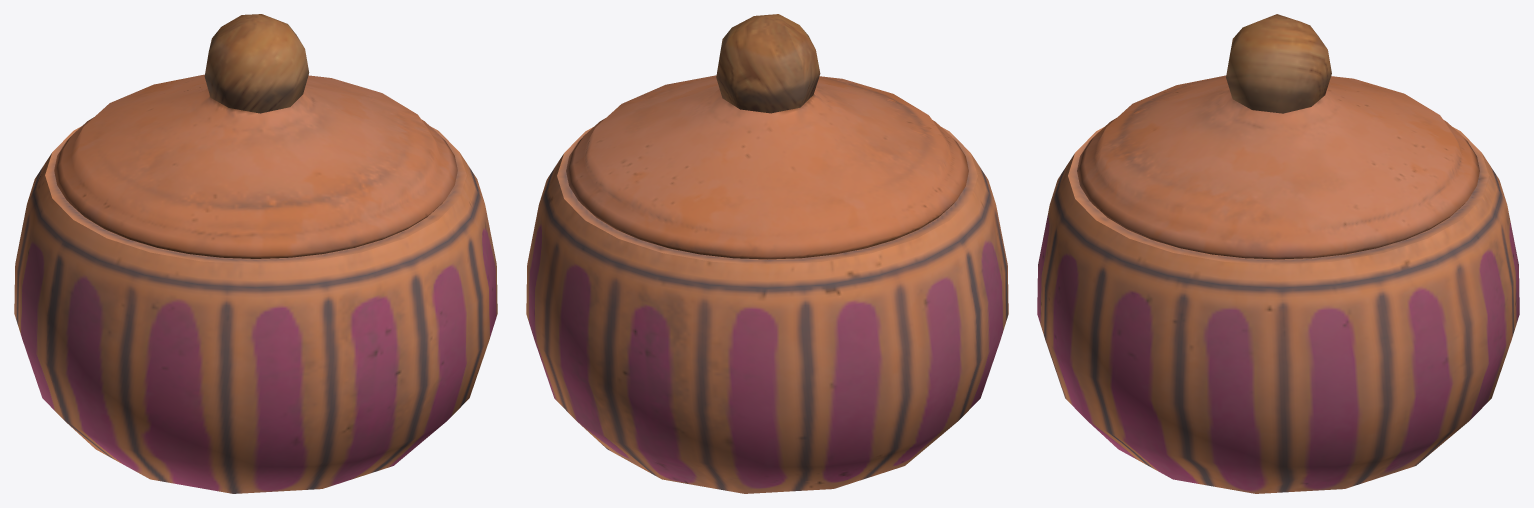
Rendered from SM_Potion_Props_Casket_01.fbx.
3 views of the same model, side by side, from view 1: azimuth 30°, elevation 25°; view 2: azimuth 150°, elevation 25°; view 3: azimuth 270°, elevation 25° (orthographic).
Visible parts, largest first — view 1: SM_Potion_Props_Casket_01_LOD0; view 2: SM_Potion_Props_Casket_01_LOD0; view 3: SM_Potion_Props_Casket_01_LOD0.
Boxes of the visible parts, x1=… form: SM_Potion_Props_Casket_01_LOD0: x1=14, y1=14, x2=497, y2=493; SM_Potion_Props_Casket_01_LOD0: x1=526, y1=14, x2=1008, y2=493; SM_Potion_Props_Casket_01_LOD0: x1=1037, y1=14, x2=1519, y2=493.
Size of what is drawn, in the model's own units: 13.65 by 13.45 by 13.65.
